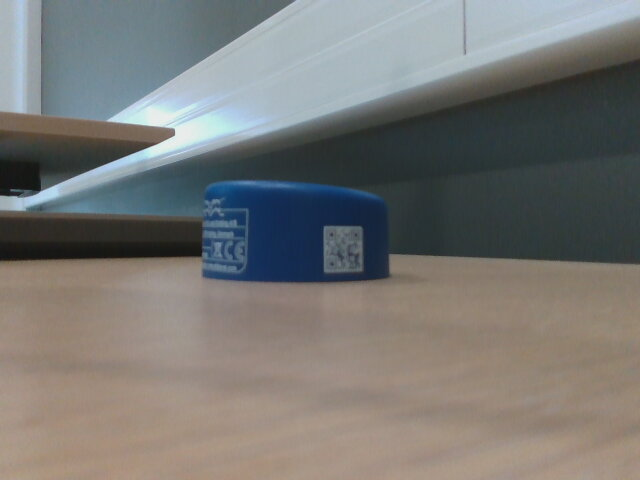alfa: (194, 172, 398, 286)
